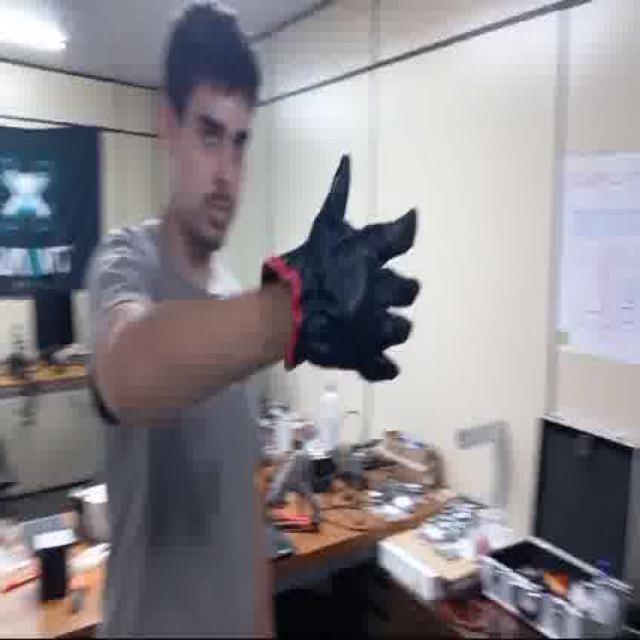Gloves: (278, 147, 423, 413)
